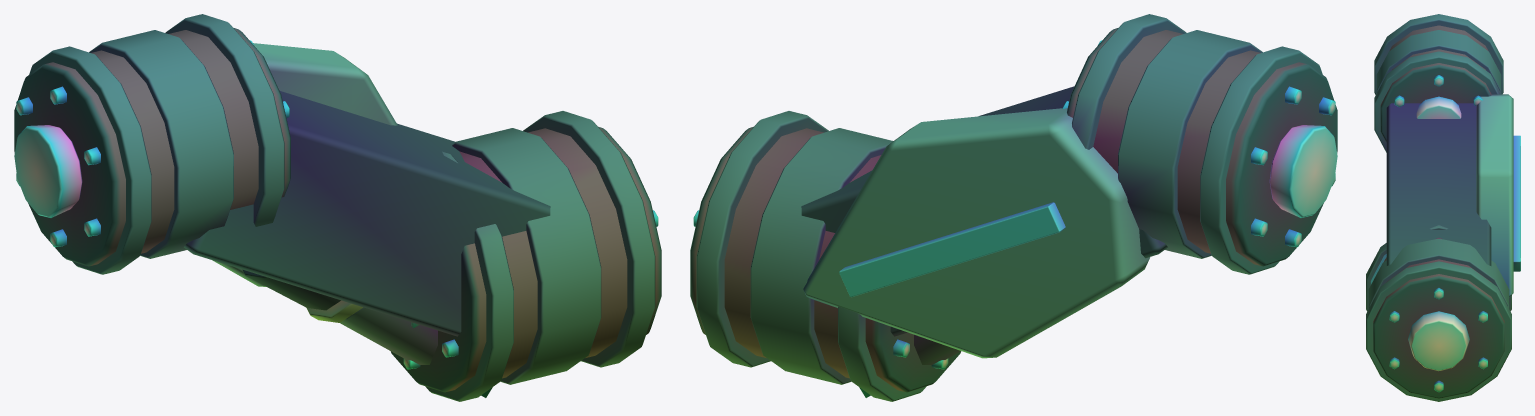
Rendered from kit_boss_femur_l.glb.
3 views of the same model, side by side, from view 1: azimuth 30°, elevation 25°; view 2: azimuth 150°, elevation 25°; view 3: azimuth 270°, elevation 25° (orthographic). The views are drawn at different scales.
Visible parts, largest first — view 1: Body__dark, Body__gunmetal, Body__chrome, Body__armor, Body__rubber, Body__brass; view 2: Body__gunmetal, Body__armor, Body__dark, Body__emit_core, Body__chrome; view 3: Body__dark, Body__gunmetal, Body__armor, Body__chrome, Body__emit_core.
Part boxes in pixels (box(x1,y1,x2,y2)): Body__dark: box(14, 28, 661, 397); Body__gunmetal: box(29, 14, 655, 401); Body__chrome: box(14, 40, 658, 369); Body__armor: box(212, 43, 397, 286); Body__rubber: box(242, 269, 340, 310); Body__brass: box(306, 300, 362, 322); Body__gunmetal: box(696, 14, 1322, 401); Body__armor: box(803, 108, 1150, 358); Body__dark: box(690, 28, 1337, 397); Body__emit_core: box(839, 202, 1065, 297); Body__chrome: box(693, 40, 1337, 369); Body__dark: box(1373, 25, 1504, 398); Body__gunmetal: box(1366, 14, 1511, 401); Body__armor: box(1476, 94, 1513, 297); Body__chrome: box(1389, 75, 1487, 392); Body__emit_core: box(1370, 135, 1520, 284).
Bounding box in the file's own units: 1.06 × 0.723 × 0.4138.
